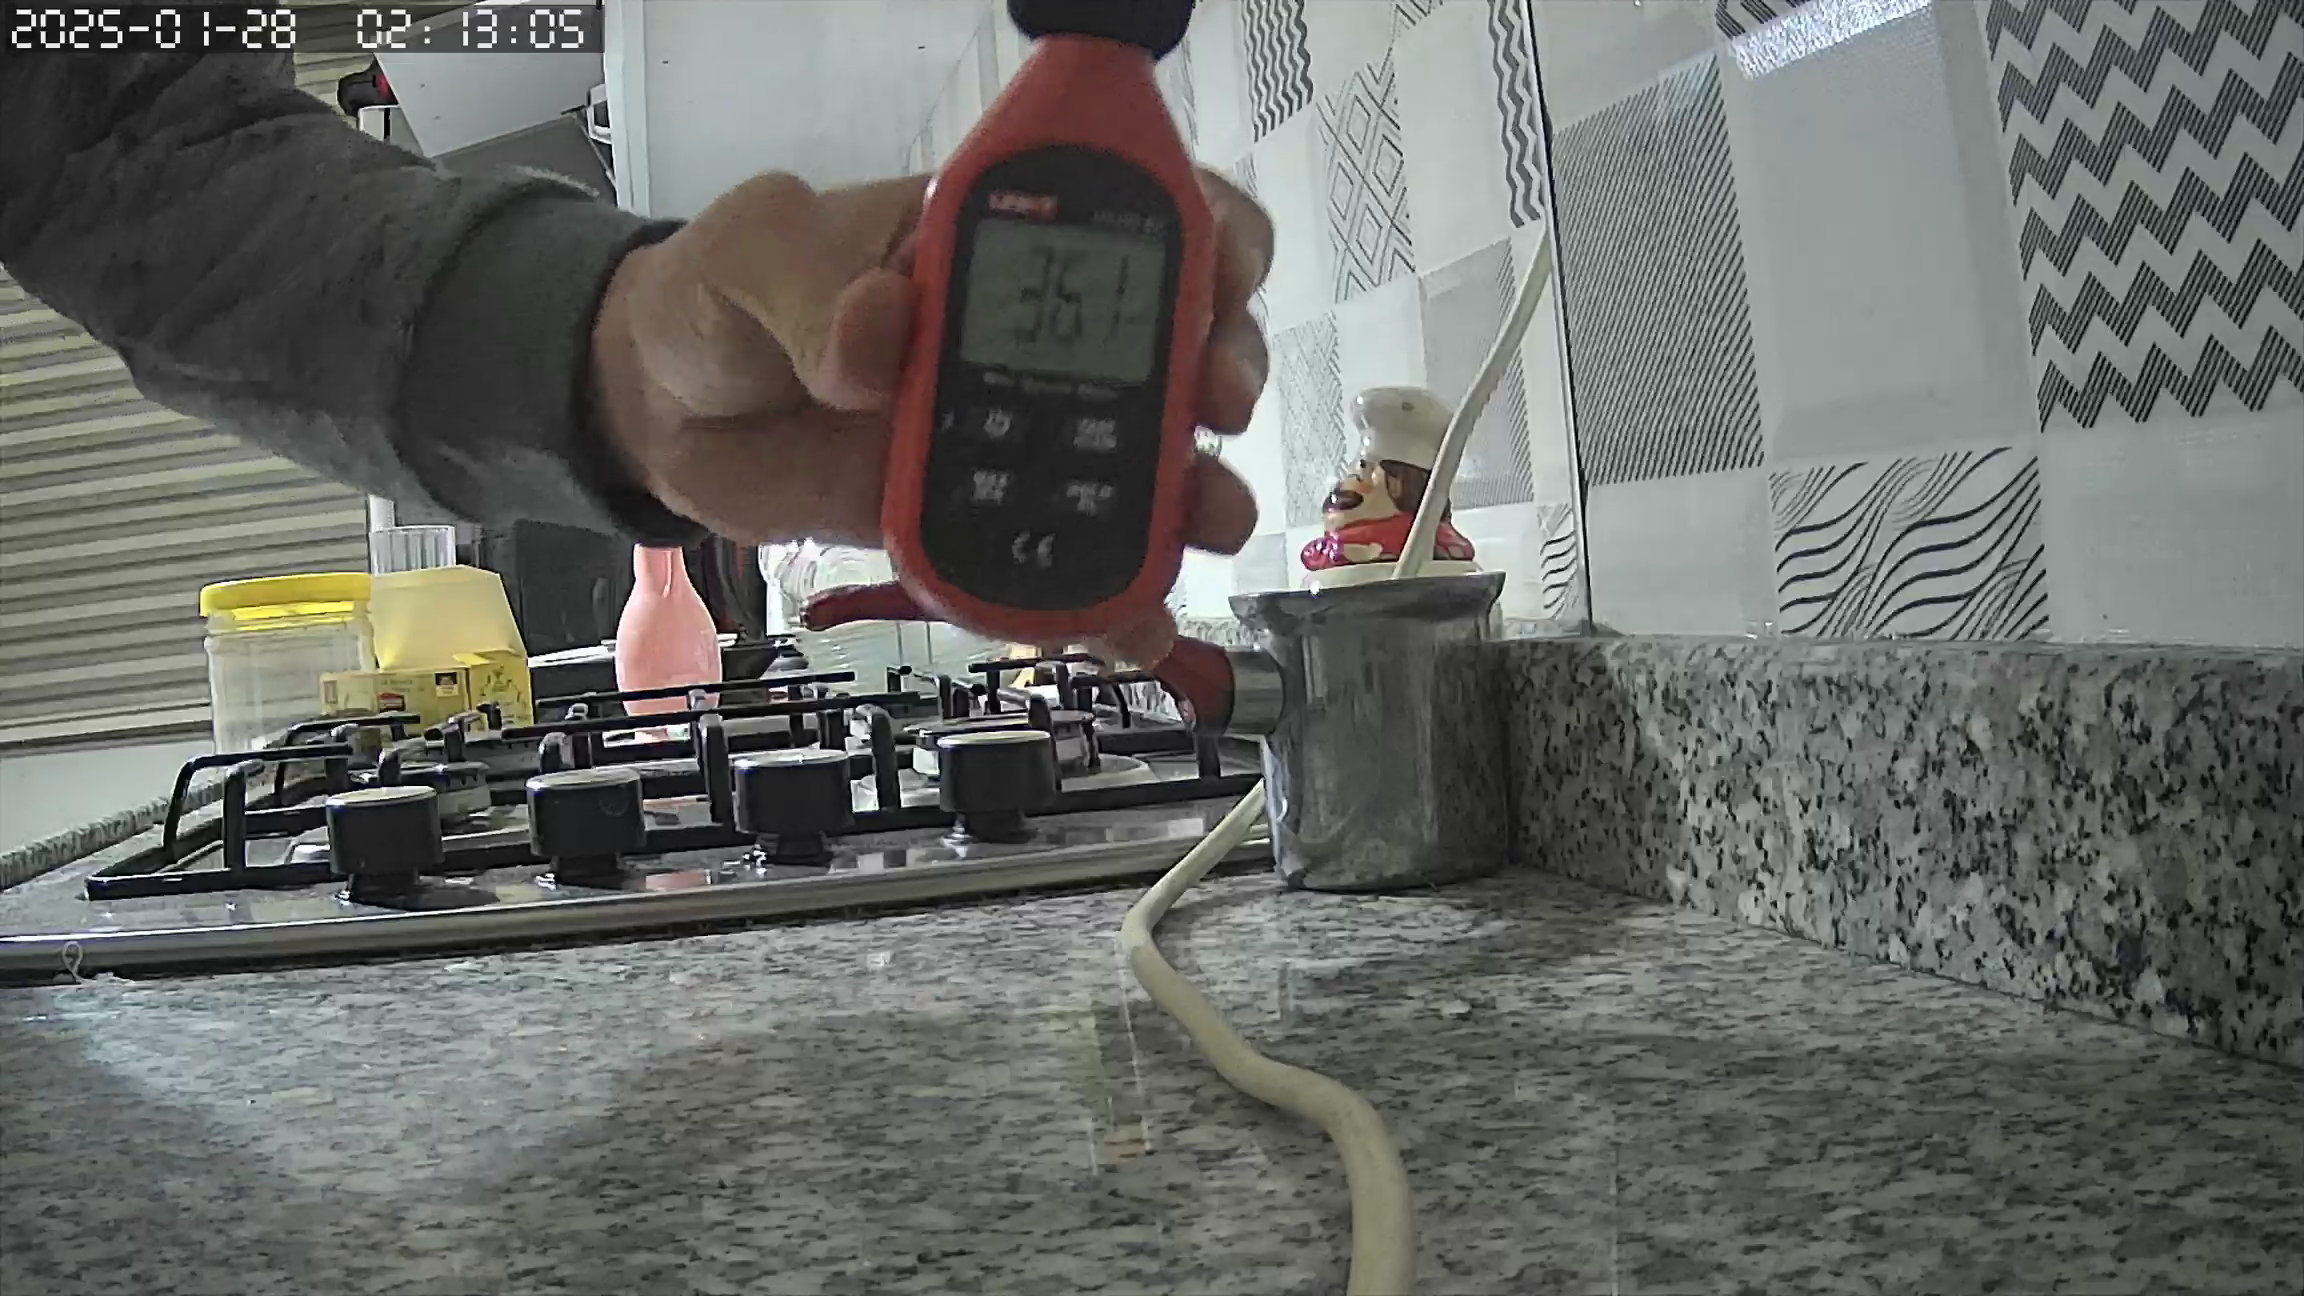screen: (962, 215, 1161, 389)
